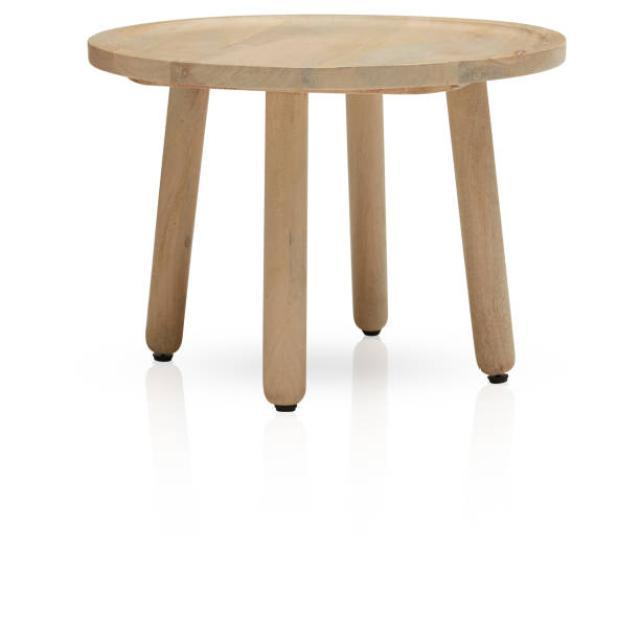table: (86, 12, 567, 412)
